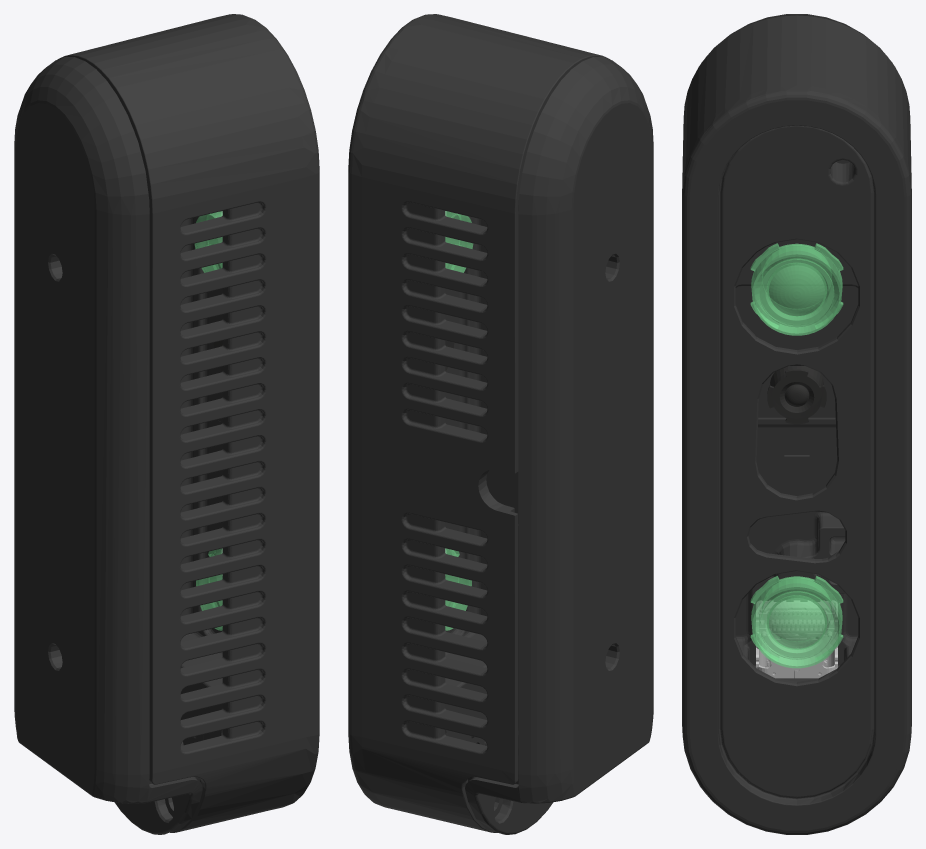
The model's file is Dabai_DCW2.glb.
3 renders of one model, left to right at view 1: azimuth 30°, elevation 25°; view 2: azimuth 150°, elevation 25°; view 3: azimuth 270°, elevation 25°, orthographic. The views are drawn at different scales.
Parts seen in each view (by area): view 1: Orbeec DCW2; view 2: Orbeec DCW2; view 3: Orbeec DCW2.
Boxes of the visible parts, x1,y1,x2,y2 form: Orbeec DCW2: (14, 14, 319, 834); Orbeec DCW2: (348, 14, 653, 834); Orbeec DCW2: (682, 14, 911, 834).
Bounding box in the file's own units: 0.0251 × 0.0898 × 0.0251.
